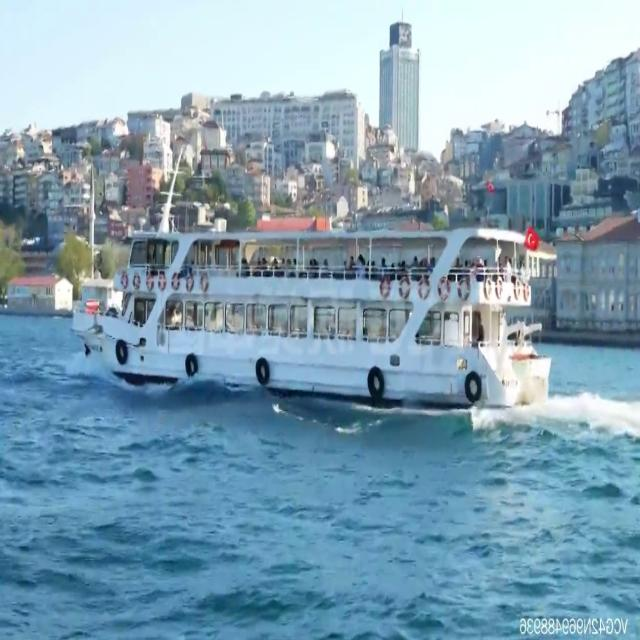passenger ship: (80, 213, 556, 400)
